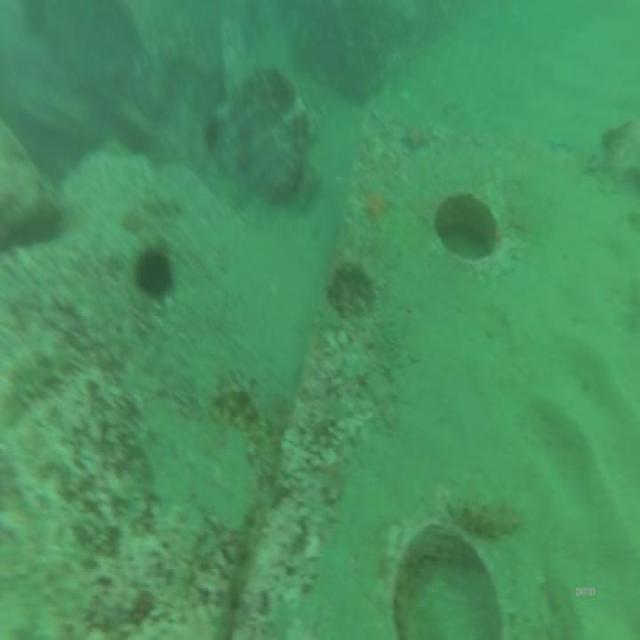echinus: (132, 242, 172, 305)
holothurian: (444, 488, 528, 544), (216, 370, 267, 458)
starfish: (360, 182, 393, 228), (400, 119, 430, 158)
